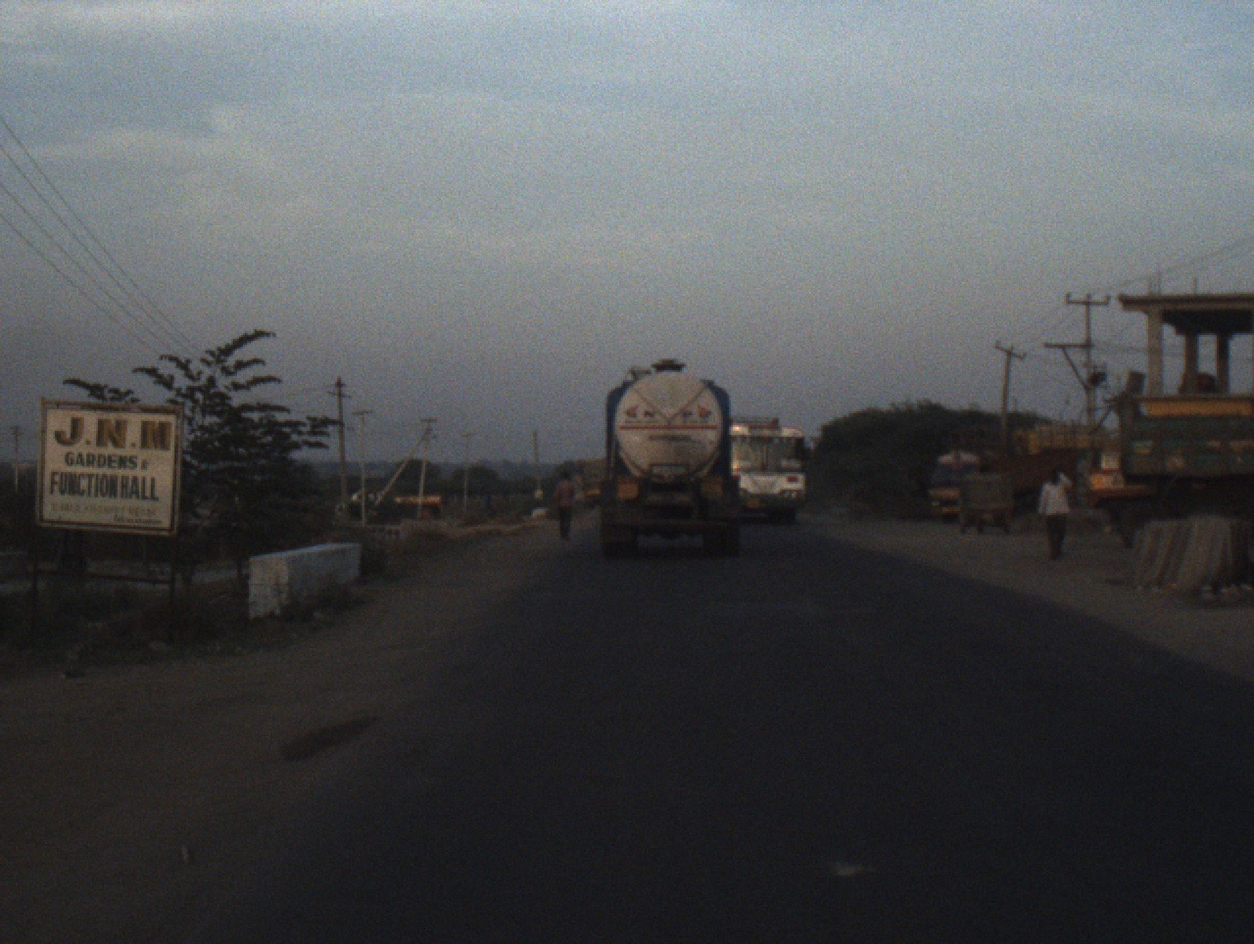autorickshaw: (957, 468, 1016, 542)
bus: (730, 411, 812, 517)
person: (1037, 461, 1073, 559), (553, 465, 580, 539)
truck: (587, 351, 743, 563), (1111, 385, 1254, 522), (925, 416, 1077, 522), (576, 452, 610, 502)
vehicle fallback: (1084, 461, 1159, 547), (344, 481, 442, 522)
